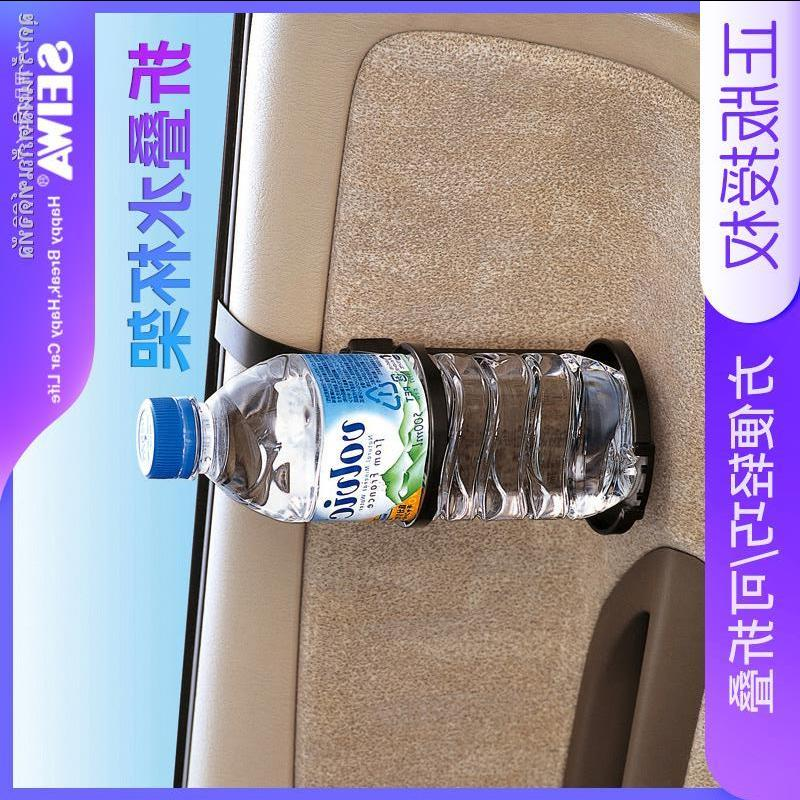bottle: (125, 336, 651, 538)
